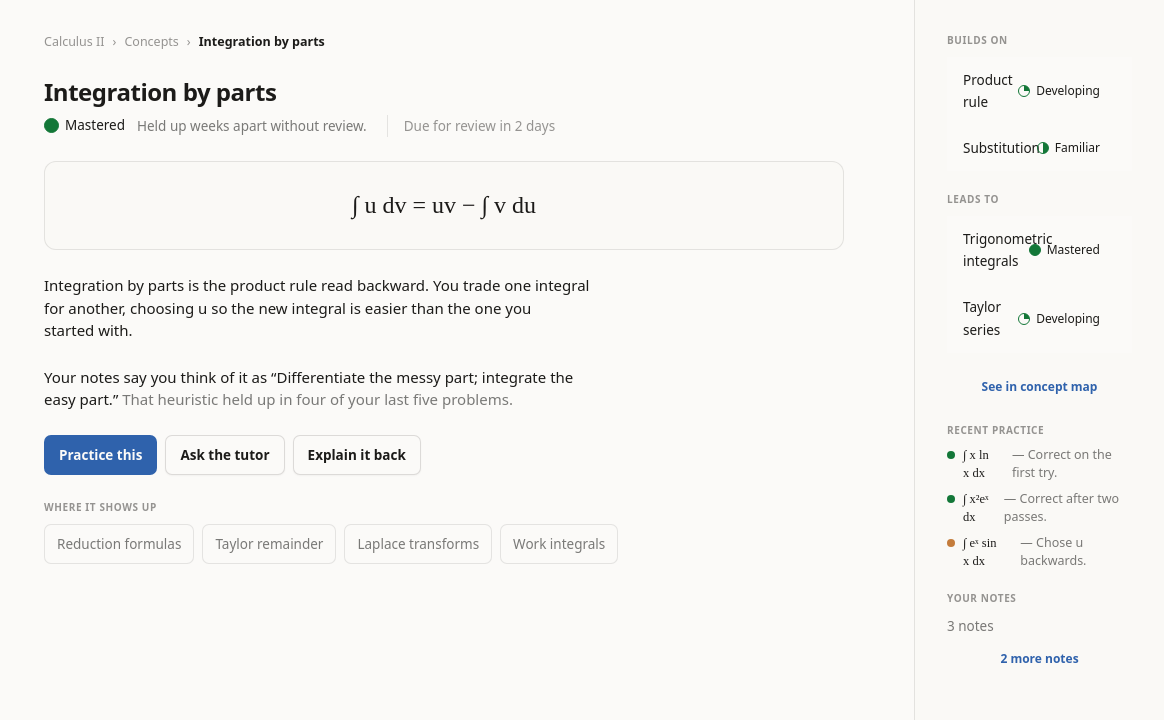
ConceptViewPage › starts a fixture-backed practice session and navigates to it
Click the button "Practice this".
click(101, 455)  # box [44,435,157,475]
(page scrolled)
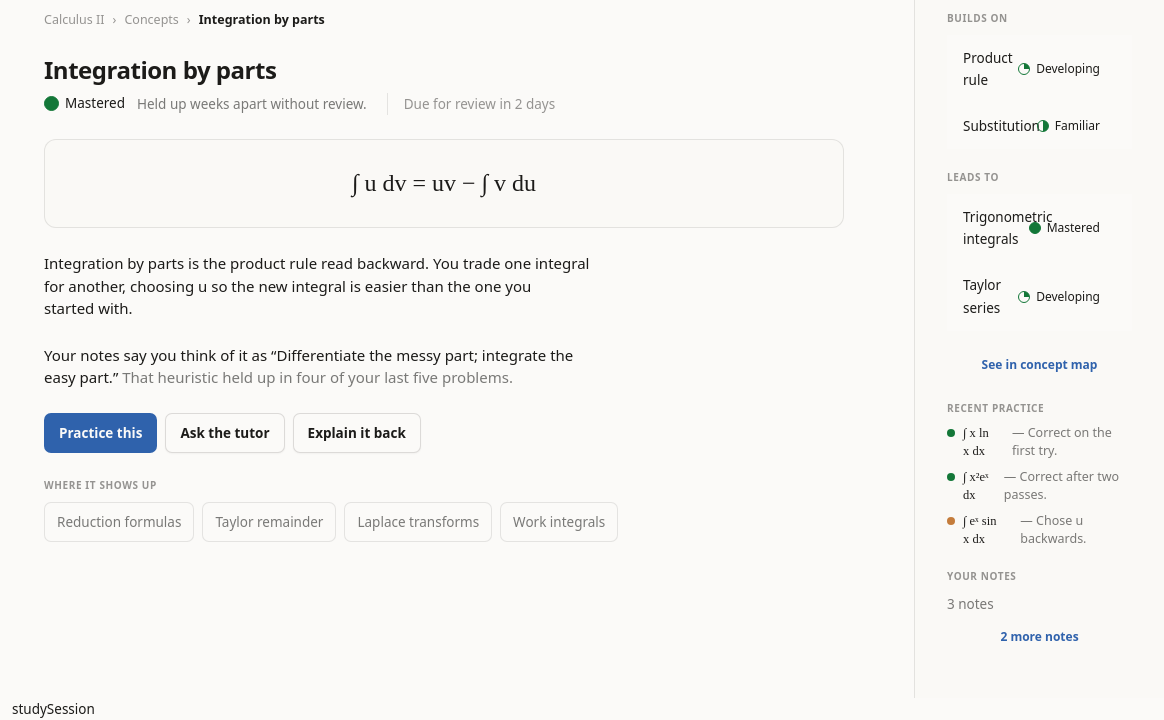
Expected: the text named "Current route" reads "studySession", [12,700,95,718]
